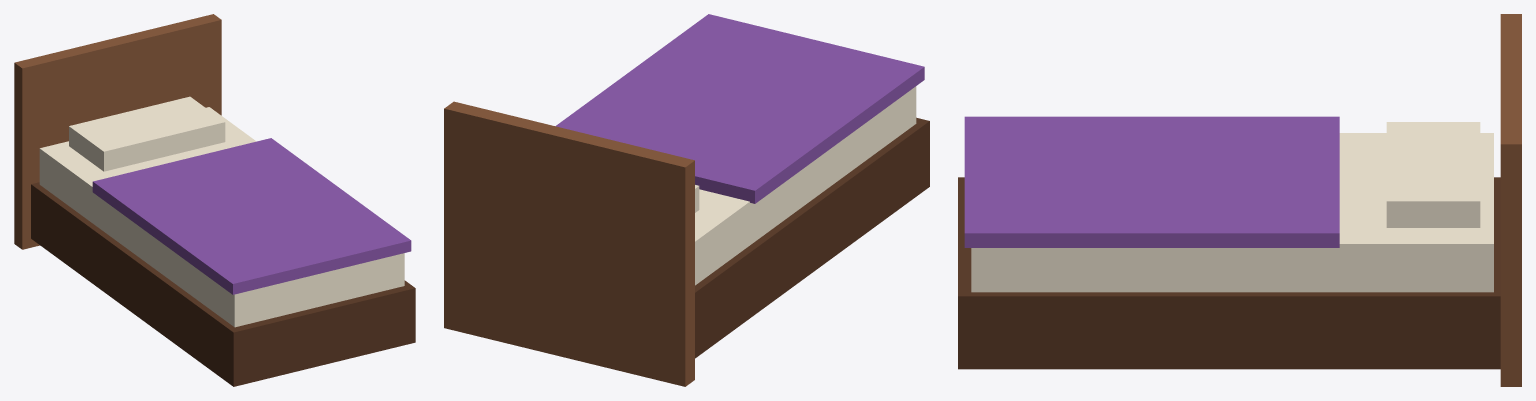
The model's file is bed.glb.
3 views of the same model, side by side, from view 1: azimuth 30°, elevation 25°; view 2: azimuth 150°, elevation 25°; view 3: azimuth 270°, elevation 25° (orthographic). The views are drawn at different scales.
Parts seen in each view (by area): view 1: Box3, Box1, Box5, Box2, Box4; view 2: Box5, Box3, Box1, Box2; view 3: Box3, Box1, Box2, Box4, Box5.
Part boxes in pixels (x1,y1,x2,y2): Box3: [92, 138, 411, 294]; Box1: [31, 182, 415, 386]; Box5: [14, 14, 221, 249]; Box2: [39, 107, 404, 327]; Box4: [69, 96, 225, 171]; Box5: [444, 101, 694, 386]; Box3: [555, 14, 924, 203]; Box1: [695, 117, 929, 358]; Box2: [695, 86, 916, 285]; Box3: [964, 116, 1339, 247]; Box1: [958, 177, 1500, 369]; Box2: [971, 133, 1493, 292]; Box4: [1386, 122, 1480, 227]; Box5: [1500, 14, 1521, 386].
Size of the model in its own units: 1.15 by 1 by 2.1.
